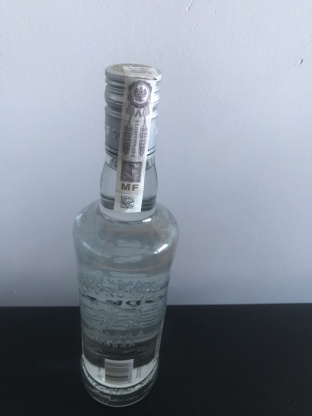nakretka: (100, 57, 164, 161)
